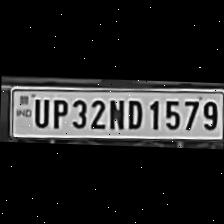1: (144, 97, 162, 130)
2: (88, 96, 106, 129)
3: (68, 96, 86, 128)
5: (160, 96, 180, 130)
7: (180, 96, 198, 130)
9: (198, 98, 218, 132)
D: (123, 96, 143, 130)
N: (105, 96, 124, 130)
P: (48, 95, 68, 129)
U: (29, 94, 48, 127)
